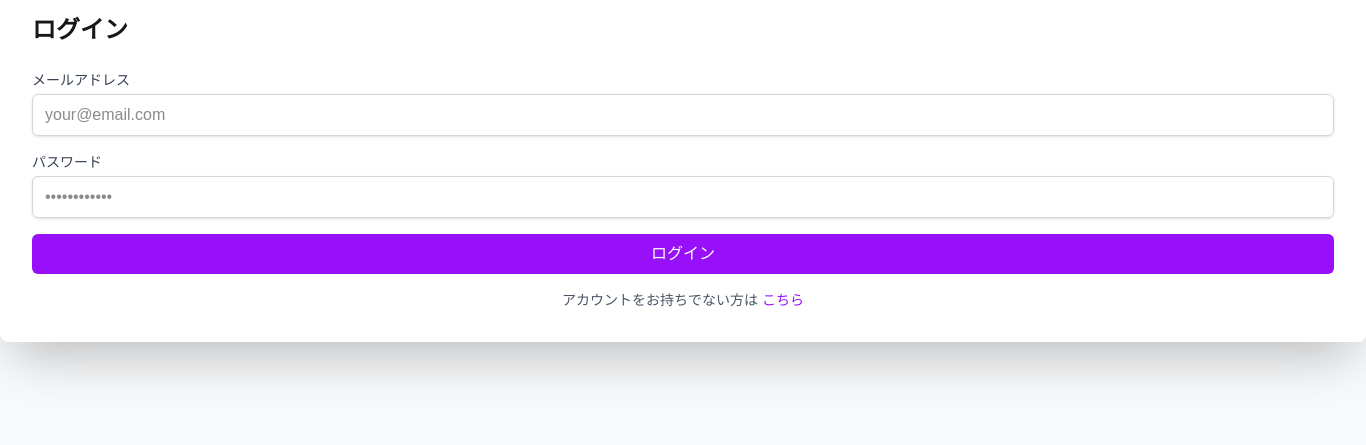
LoginPageClient › バリデーション › メールアドレスが空の場合エラーが表示される
Type "password123" into the password field labelled "パスワード".
click(683, 197); type("password123")  # box 32,176 -> 1334,218
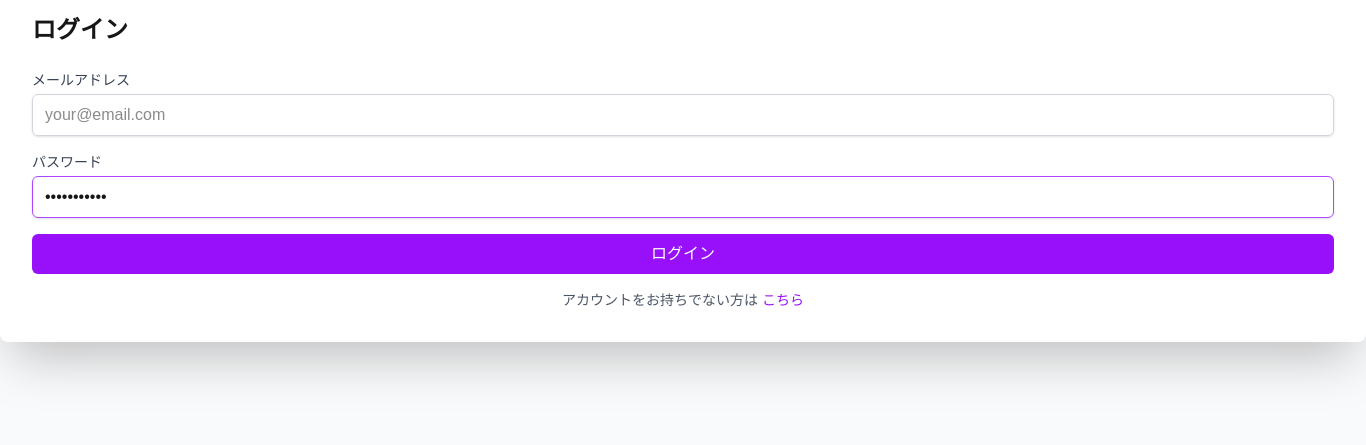
Click the button "ログイン".
click(683, 254)  # box 32,234 -> 1334,274
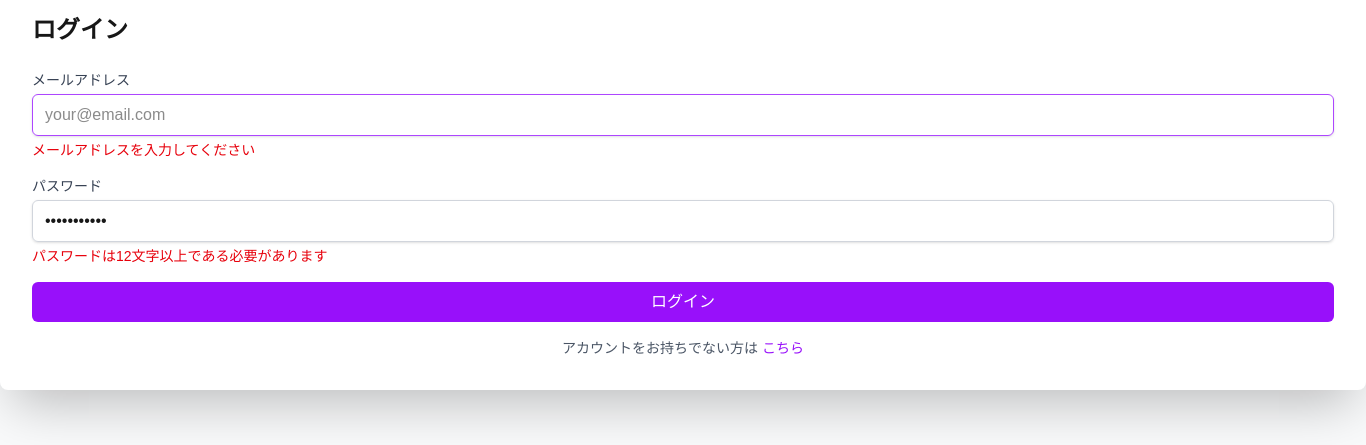
expect the text "メールアドレスを入力してください" is shown: met, box 32,142 -> 255,158
